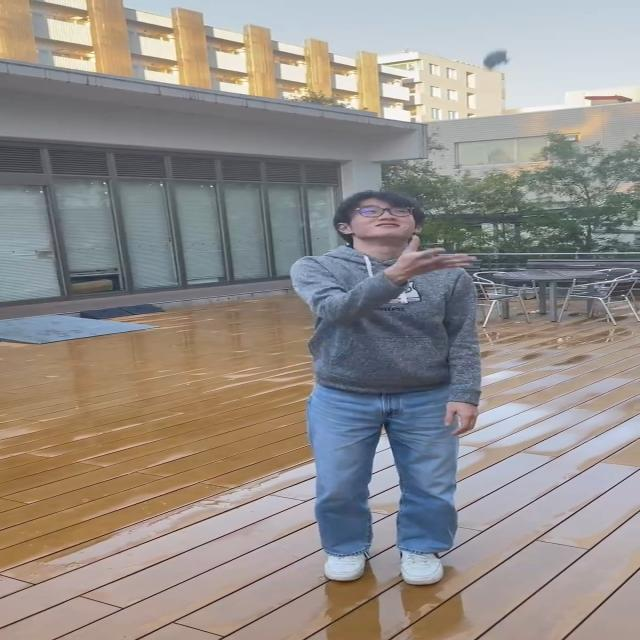paper: (486, 50, 506, 69)
